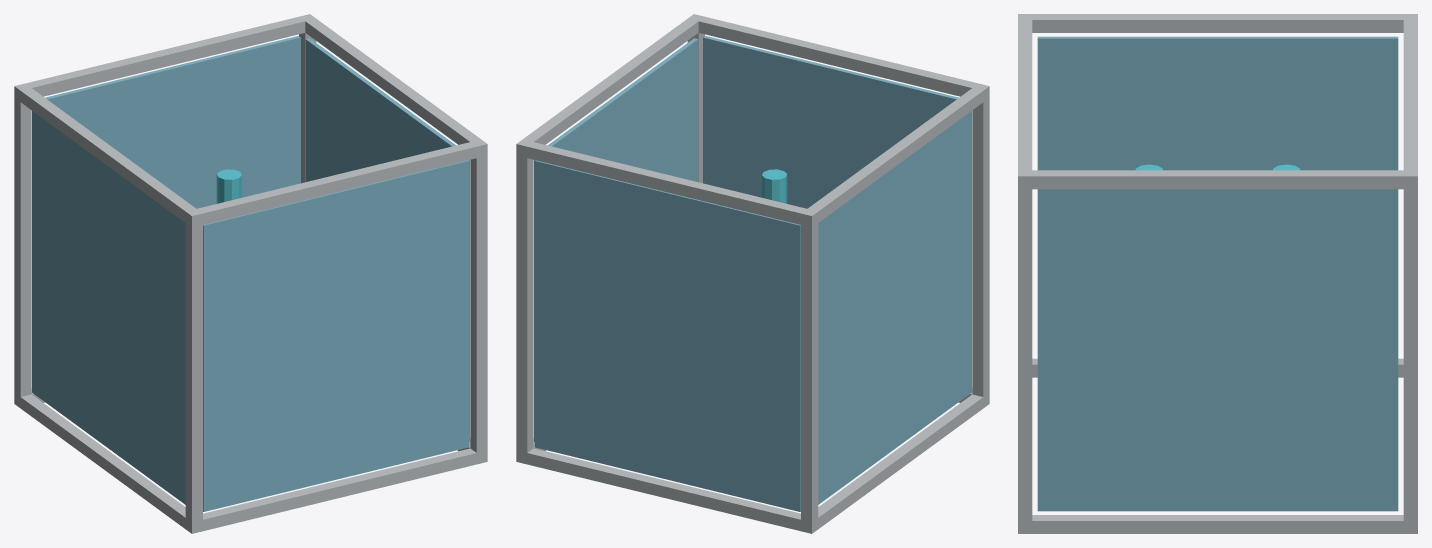
File: 50_L77_HighSpeedWaferSpinDryer.glb
The picture shows the model from 3 angles, left to right: view 1: azimuth 30°, elevation 25°; view 2: azimuth 150°, elevation 25°; view 3: azimuth 270°, elevation 25°; orthographic projection. The views are drawn at different scales.
Parts seen in each view (by area): view 1: HighSpeedWaferSpinDryer_Node_0013, HighSpeedWaferSpinDryer_Node_0014, HighSpeedWaferSpinDryer_Node_0012, HighSpeedWaferSpinDryer_Node_0015, HighSpeedWaferSpinDryer_Node_0001, HighSpeedWaferSpinDryer_Node_0003, HighSpeedWaferSpinDryer_Node_0000, HighSpeedWaferSpinDryer_Node_0009, HighSpeedWaferSpinDryer_Node_0005, HighSpeedWaferSpinDryer_Node_0008, HighSpeedWaferSpinDryer_Node_0010, HighSpeedWaferSpinDryer_Node_0011 (+3 smaller); view 2: HighSpeedWaferSpinDryer_Node_0012, HighSpeedWaferSpinDryer_Node_0014, HighSpeedWaferSpinDryer_Node_0013, HighSpeedWaferSpinDryer_Node_0015, HighSpeedWaferSpinDryer_Node_0000, HighSpeedWaferSpinDryer_Node_0002, HighSpeedWaferSpinDryer_Node_0001, HighSpeedWaferSpinDryer_Node_0008, HighSpeedWaferSpinDryer_Node_0004, HighSpeedWaferSpinDryer_Node_0009, HighSpeedWaferSpinDryer_Node_0010, HighSpeedWaferSpinDryer_Node_0006 (+3 smaller); view 3: HighSpeedWaferSpinDryer_Node_0015, HighSpeedWaferSpinDryer_Node_0014, HighSpeedWaferSpinDryer_Node_0011, HighSpeedWaferSpinDryer_Node_0010, HighSpeedWaferSpinDryer_Node_0007, HighSpeedWaferSpinDryer_Node_0003, HighSpeedWaferSpinDryer_Node_0002, HighSpeedWaferSpinDryer_Node_0008, HighSpeedWaferSpinDryer_Node_0009.
Part boxes in pixels (<box>): HighSpeedWaferSpinDryer_Node_0013: <box>203,160,469,511</box>; HighSpeedWaferSpinDryer_Node_0014: <box>32,111,185,504</box>; HighSpeedWaferSpinDryer_Node_0012: <box>45,36,300,208</box>; HighSpeedWaferSpinDryer_Node_0015: <box>305,38,469,441</box>; HighSpeedWaferSpinDryer_Node_0001: <box>185,209,202,533</box>; HighSpeedWaferSpinDryer_Node_0003: <box>470,140,487,464</box>; HighSpeedWaferSpinDryer_Node_0000: <box>14,84,31,407</box>; HighSpeedWaferSpinDryer_Node_0009: <box>185,140,487,227</box>; HighSpeedWaferSpinDryer_Node_0005: <box>185,448,487,533</box>; HighSpeedWaferSpinDryer_Node_0008: <box>14,15,314,100</box>; HighSpeedWaferSpinDryer_Node_0010: <box>14,83,202,226</box>; HighSpeedWaferSpinDryer_Node_0011: <box>301,15,486,157</box>; HighSpeedWaferSpinDryer_Node_0012: <box>534,160,800,511</box>; HighSpeedWaferSpinDryer_Node_0014: <box>818,111,971,504</box>; HighSpeedWaferSpinDryer_Node_0013: <box>703,36,958,208</box>; HighSpeedWaferSpinDryer_Node_0015: <box>534,38,698,441</box>; HighSpeedWaferSpinDryer_Node_0000: <box>801,209,818,533</box>; HighSpeedWaferSpinDryer_Node_0002: <box>516,140,533,463</box>; HighSpeedWaferSpinDryer_Node_0001: <box>972,83,989,407</box>; HighSpeedWaferSpinDryer_Node_0008: <box>516,141,817,226</box>; HighSpeedWaferSpinDryer_Node_0004: <box>516,448,816,533</box>; HighSpeedWaferSpinDryer_Node_0009: <box>690,14,989,98</box>; HighSpeedWaferSpinDryer_Node_0010: <box>801,84,989,224</box>; HighSpeedWaferSpinDryer_Node_0006: <box>809,393,989,528</box>; HighSpeedWaferSpinDryer_Node_0015: <box>1037,189,1398,511</box>; HighSpeedWaferSpinDryer_Node_0014: <box>1037,36,1398,170</box>; HighSpeedWaferSpinDryer_Node_0011: <box>1018,170,1415,189</box>; HighSpeedWaferSpinDryer_Node_0010: <box>1018,14,1413,32</box>; HighSpeedWaferSpinDryer_Node_0007: <box>1020,515,1415,533</box>; HighSpeedWaferSpinDryer_Node_0003: <box>1018,170,1032,533</box>; HighSpeedWaferSpinDryer_Node_0002: <box>1403,170,1417,533</box>; HighSpeedWaferSpinDryer_Node_0008: <box>1403,14,1417,185</box>; HighSpeedWaferSpinDryer_Node_0009: <box>1018,14,1032,185</box>.
Bounding box in the file's own units: 1.48 × 1.52 × 1.54.
